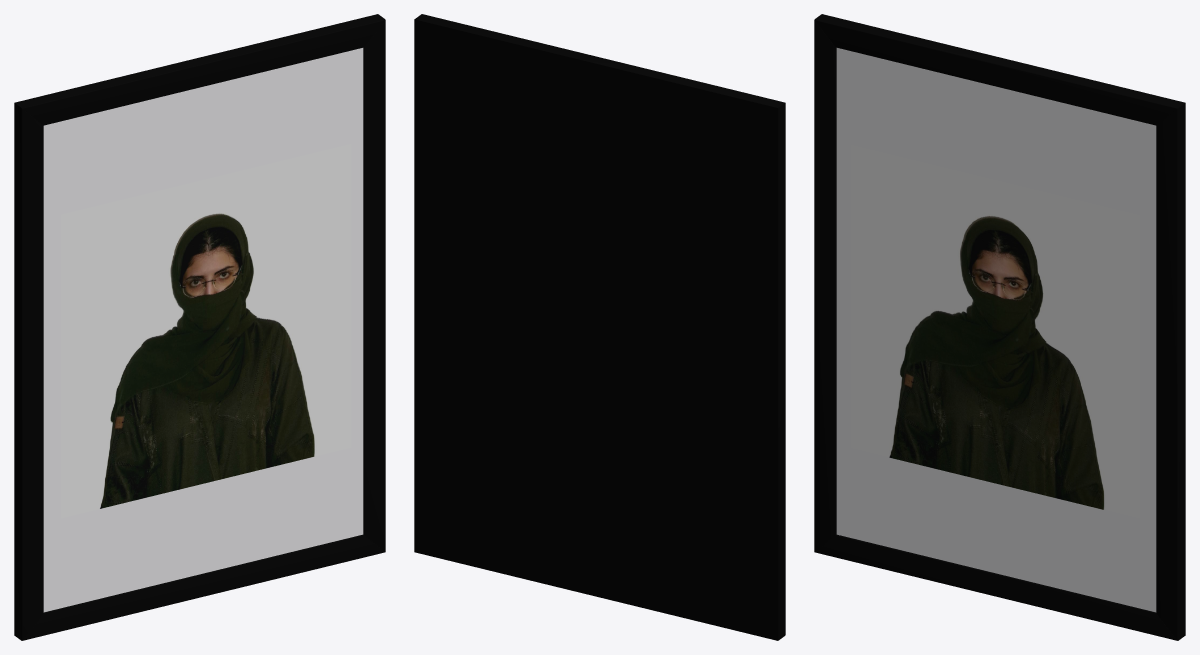
The model's file is RenadSign.fbx.
3 renders of one model, left to right at view 1: azimuth 30°, elevation 25°; view 2: azimuth 150°, elevation 25°; view 3: azimuth 330°, elevation 25°, orthographic.
Visible parts, largest first — view 1: Box046, zip_-_5; view 2: Box046; view 3: Box046, zip_-_5.
Part boxes in pixels (x1,y1,x2,y2): Box046: (14, 14, 385, 640); zip_-_5: (61, 144, 351, 518); Box046: (414, 14, 785, 640); Box046: (814, 14, 1185, 640); zip_-_5: (850, 144, 1140, 518).
Bounding box in the file's own units: 692 × 969 × 29.58.
5 materials, 1 textured.
